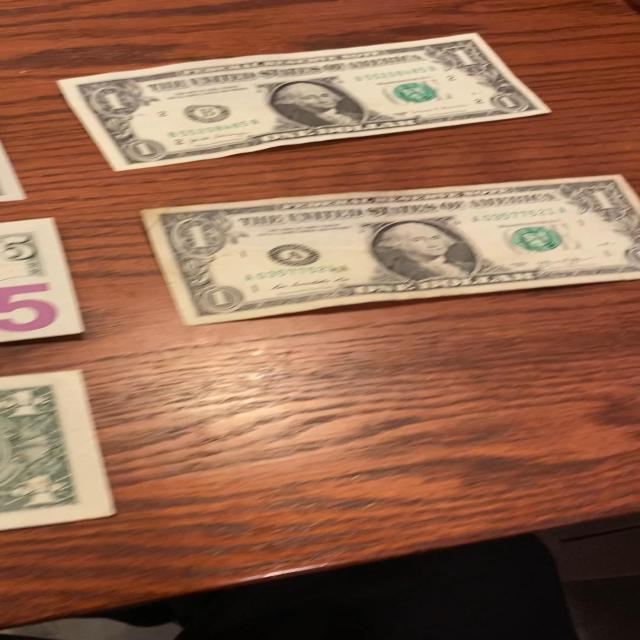1-Front: (137, 174, 640, 330), (57, 32, 554, 175)
